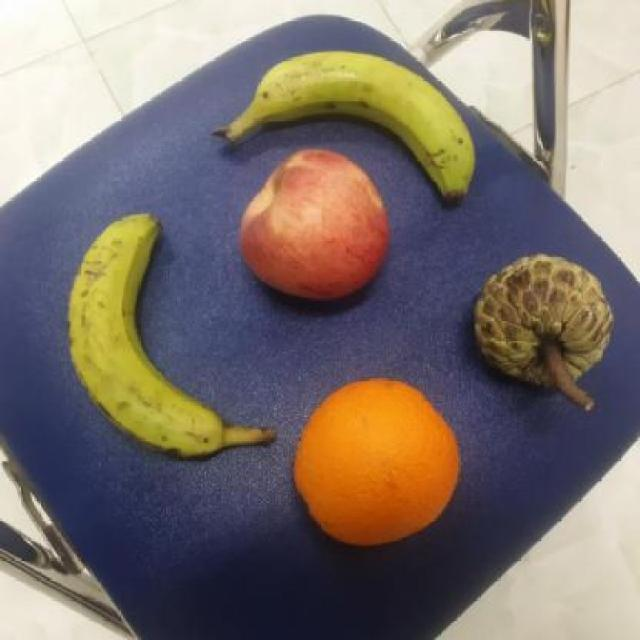apple: (235, 145, 395, 308)
banana: (62, 212, 279, 463), (223, 49, 483, 212)
oren: (288, 371, 464, 555)
sugar apple: (466, 250, 626, 405)
